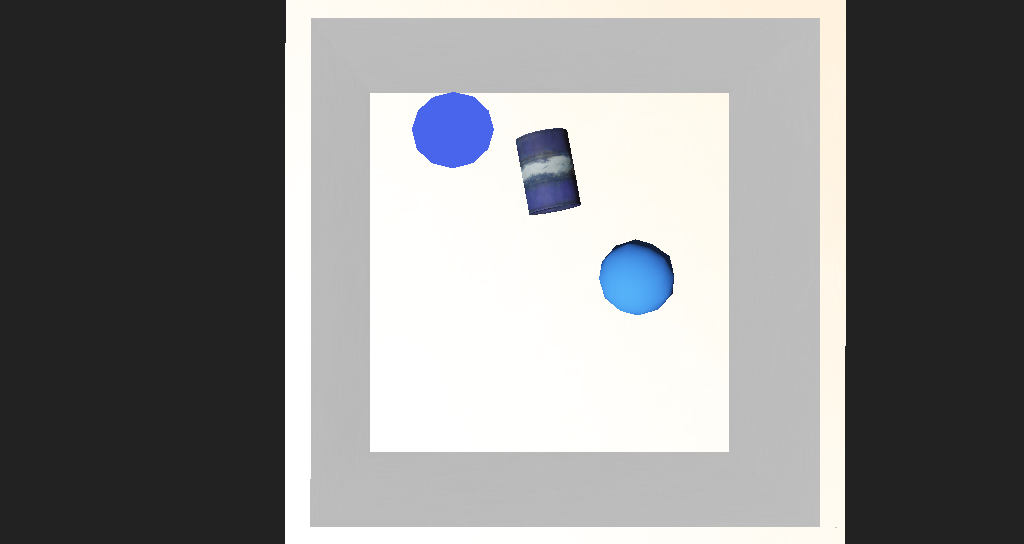cone: (475, 184, 536, 236)
cylinder: (391, 162, 458, 220)
sphere: (549, 251, 610, 293)
